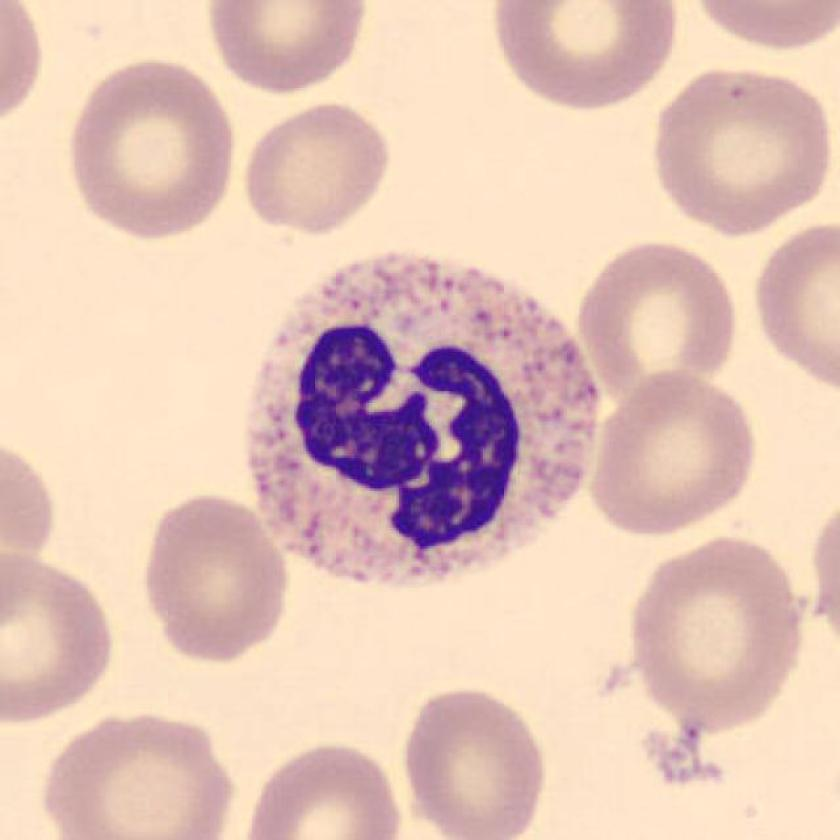neutrophil: (248, 250, 600, 584)
